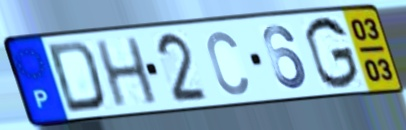2: (154, 29, 212, 107)
6: (262, 22, 310, 91)
C: (204, 28, 251, 98)
D: (45, 38, 109, 116)
G: (303, 14, 362, 91)
H: (92, 34, 162, 110)
